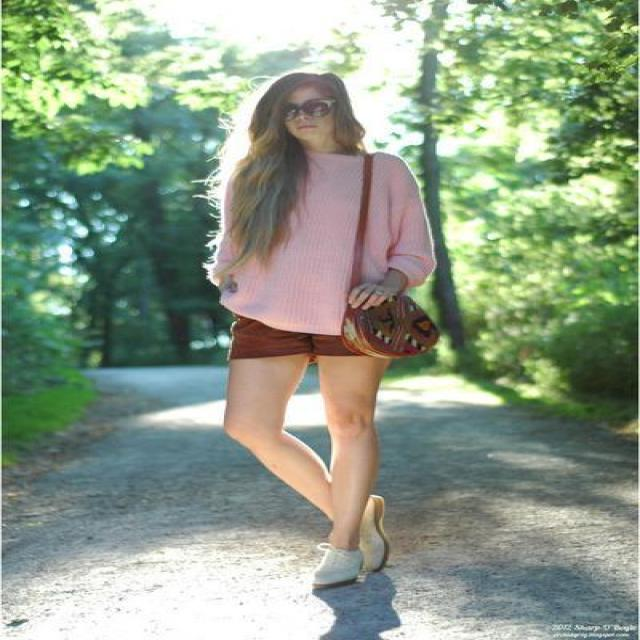bag: (333, 294, 427, 356)
shirt: (219, 145, 435, 334)
shoe: (314, 525, 382, 588)
shorts: (211, 313, 365, 366)
